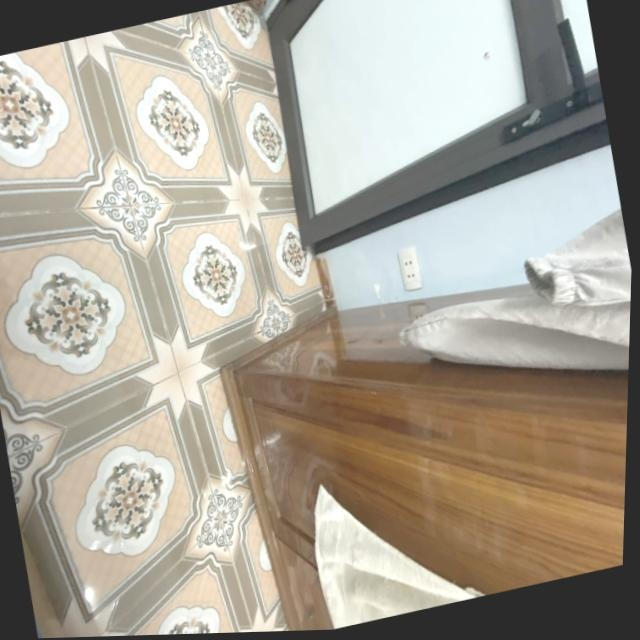outlet: (394, 246, 424, 293)
